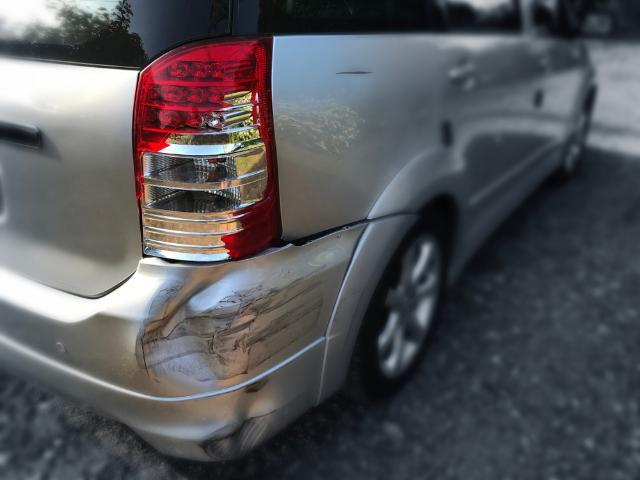dent: (140, 260, 267, 386), (205, 380, 273, 460)
lamp broken: (132, 34, 283, 263)
scratch: (232, 272, 326, 377)
